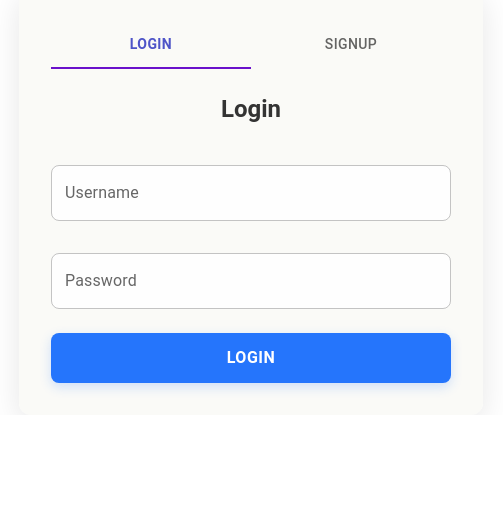
Test: Login Component › Registro exitoso
Click the tab "Signup" at {"x": 351, "y": 45}, box 251,21 -> 451,69
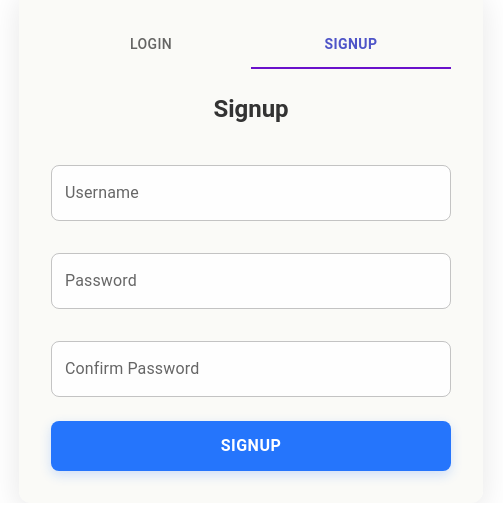
Type "user123" into the field labelled "Username" at {"x": 251, "y": 193}, box 51,165 -> 451,221
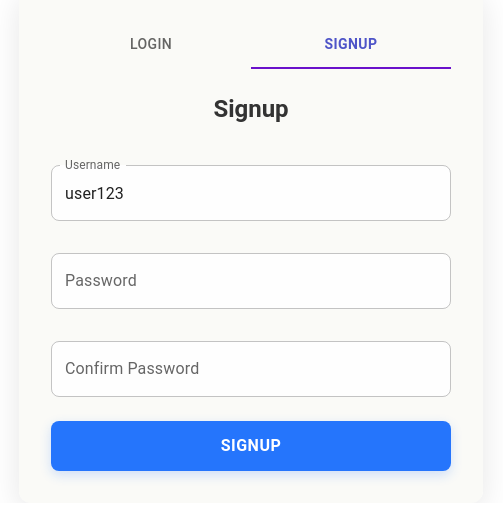
Type "abcd1234" into the password field labelled "Password" at {"x": 251, "y": 281}, box 51,253 -> 451,309
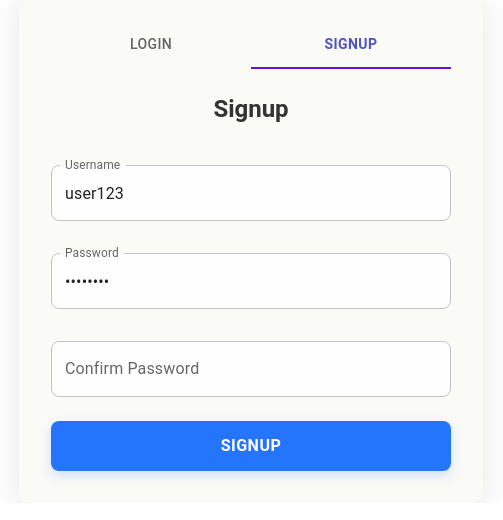
Type "abcd1234" into the password field labelled "Confirm Password" at {"x": 251, "y": 369}, box 51,341 -> 451,397
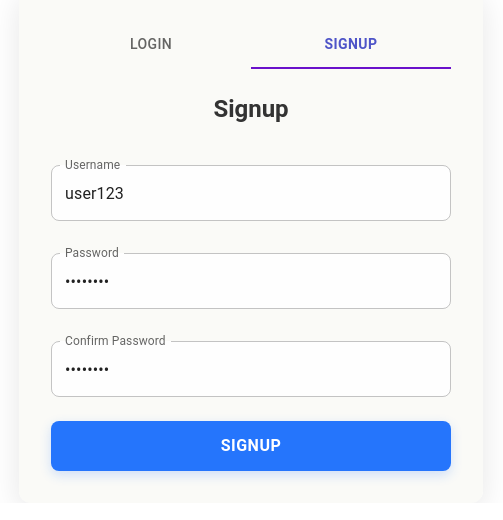
Click the button with test id "signup-button" at {"x": 251, "y": 446}, box 51,421 -> 451,471
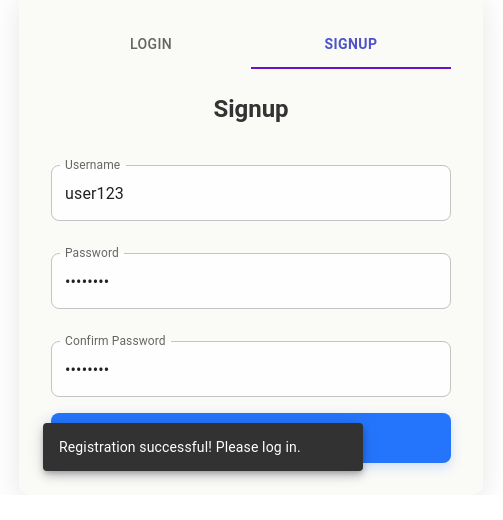
Check: the text "Registration successful! Please log in." is shown, box 59,439 -> 301,455
